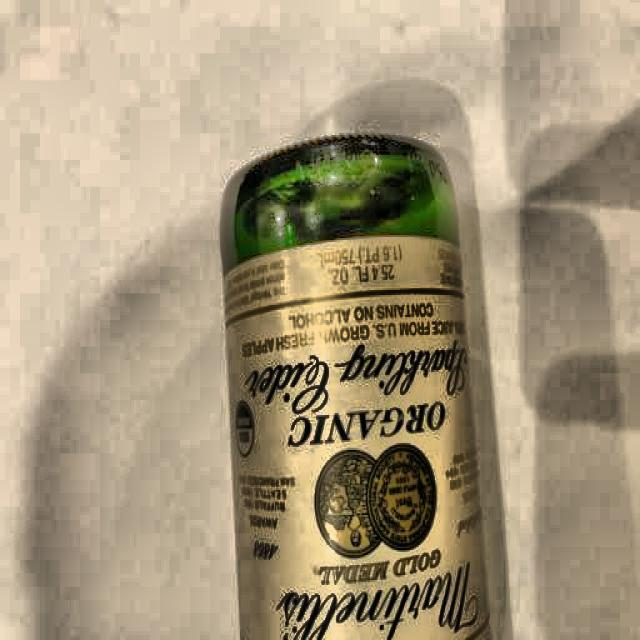glass: (212, 131, 502, 640)
